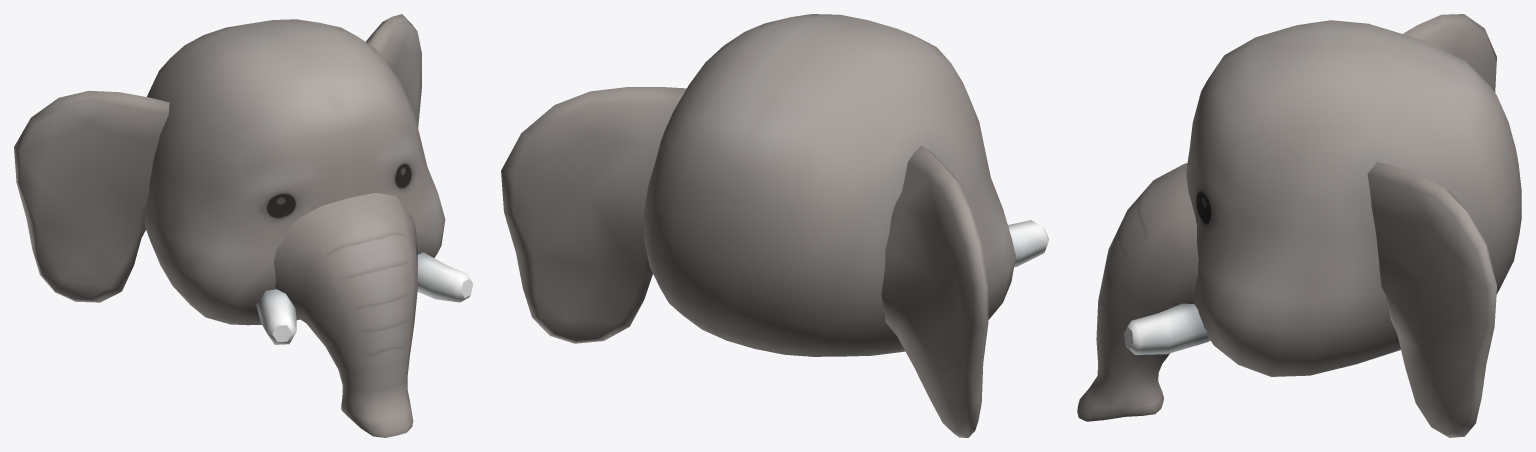
The model's file is CRT0110010.FBX.
3 views of the same model, side by side, from view 1: azimuth 30°, elevation 25°; view 2: azimuth 150°, elevation 25°; view 3: azimuth 270°, elevation 25° (orthographic). The views are drawn at different scales.
Parts seen in each view (by area): view 1: smCRT0110010; view 2: smCRT0110010; view 3: smCRT0110010.
Part boxes in pixels (<box>): smCRT0110010: <box>14,14,472,437</box>; smCRT0110010: <box>501,14,1048,437</box>; smCRT0110010: <box>1077,14,1521,437</box>.
Bounding box in the file's own units: 0.4117 × 0.3078 × 0.3367.
1 material, 1 textured.
